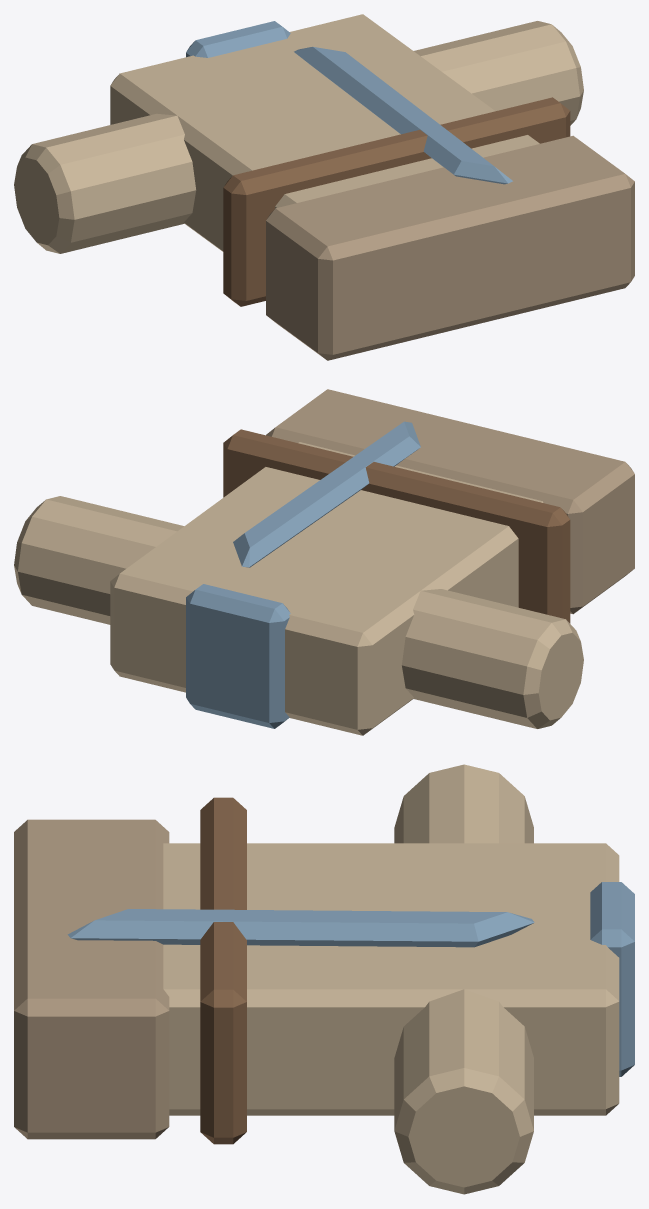
File: armor_cloth_armor.glb
3 views of the same model, one above another, from view 1: azimuth 30°, elevation 25°; view 2: azimuth 150°, elevation 25°; view 3: azimuth 270°, elevation 25° (orthographic). The views are drawn at different scales.
Visible parts, largest first — view 1: armor_cloth_armor; view 2: armor_cloth_armor; view 3: armor_cloth_armor.
Part boxes in pixels (x1=…): armor_cloth_armor: x1=14, y1=14, x2=634, y2=360; armor_cloth_armor: x1=14, y1=389, x2=634, y2=735; armor_cloth_armor: x1=14, y1=764, x2=634, y2=1194.
Bounding box in the file's own units: 0.96 × 0.2275 × 0.8.
